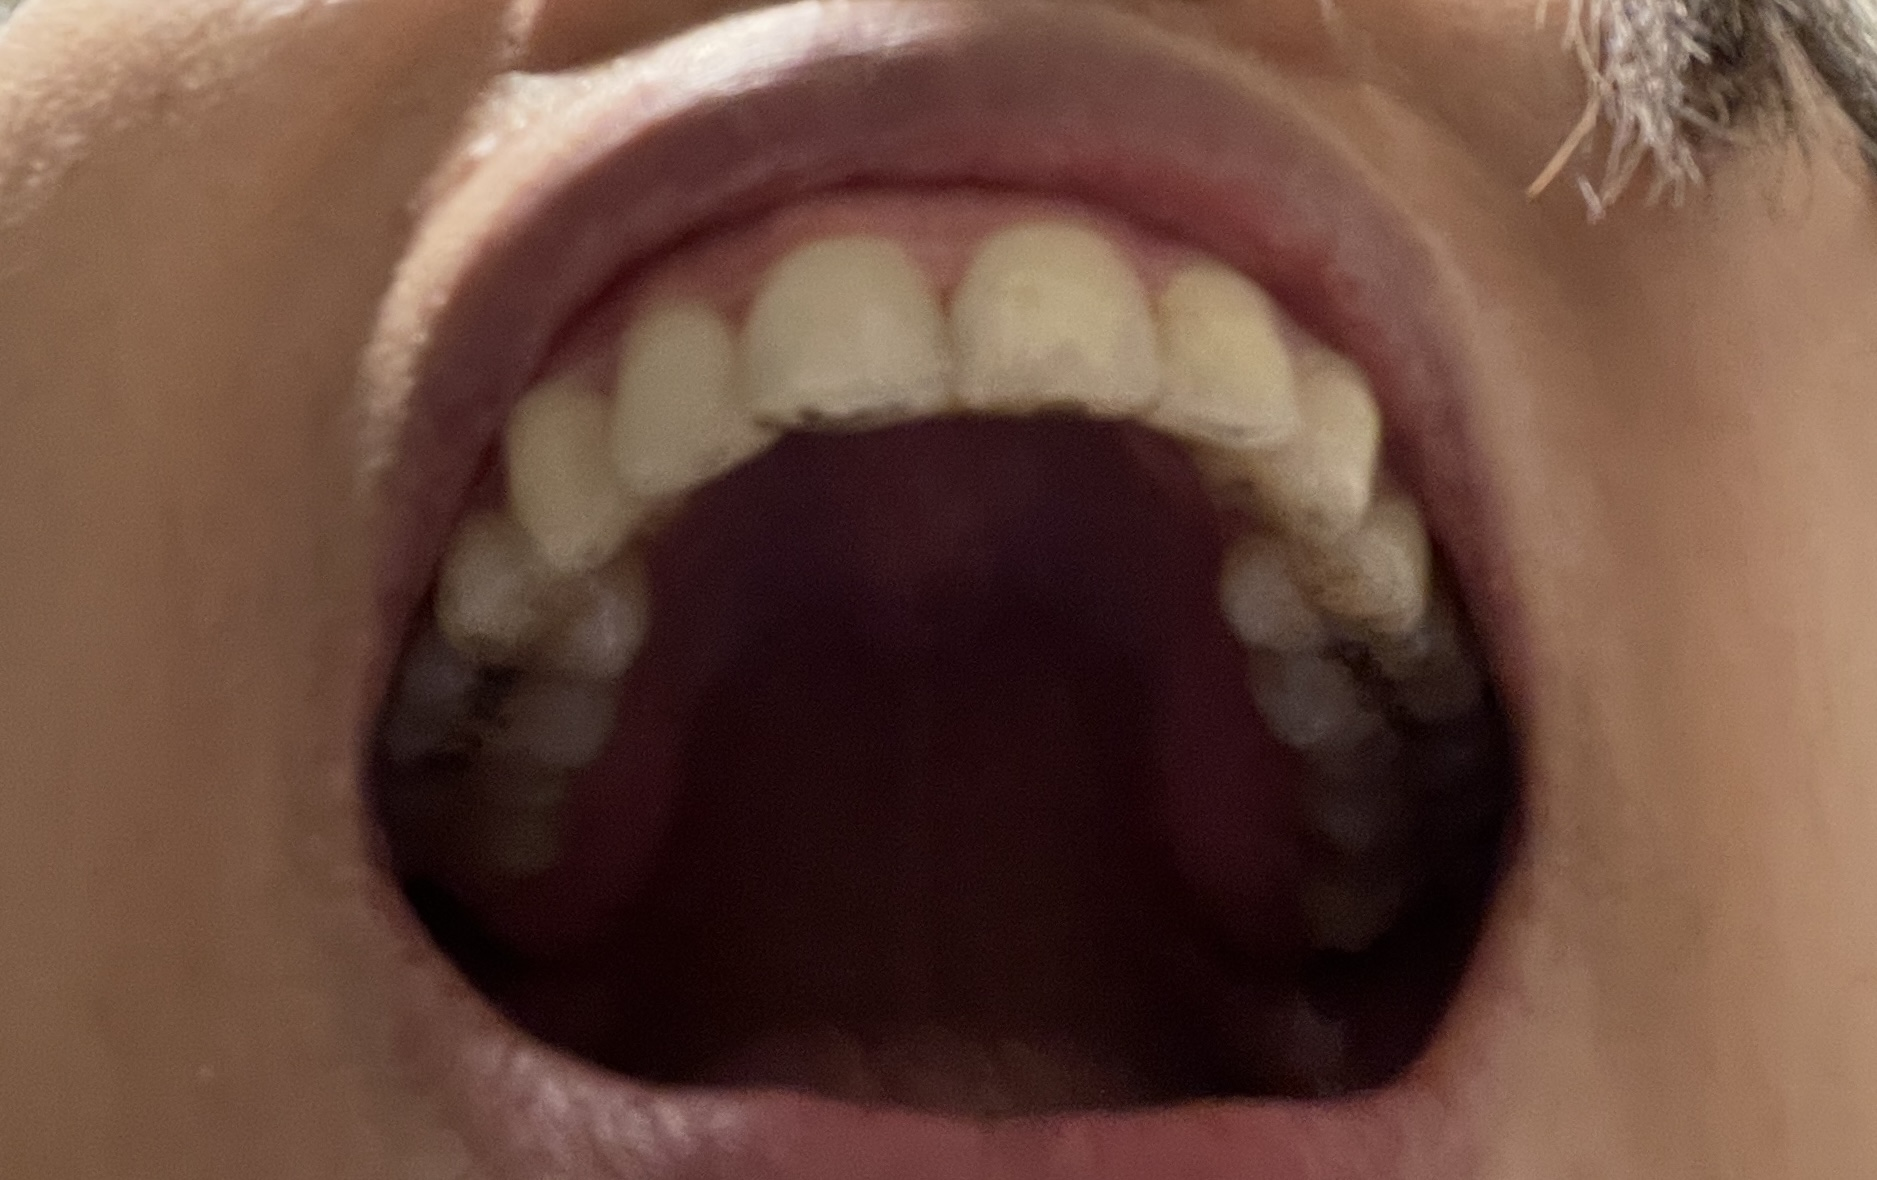teeth: (1207, 356, 1380, 537), (964, 235, 1143, 406), (738, 258, 941, 405), (617, 306, 768, 493), (504, 392, 633, 572), (1159, 276, 1295, 431)
